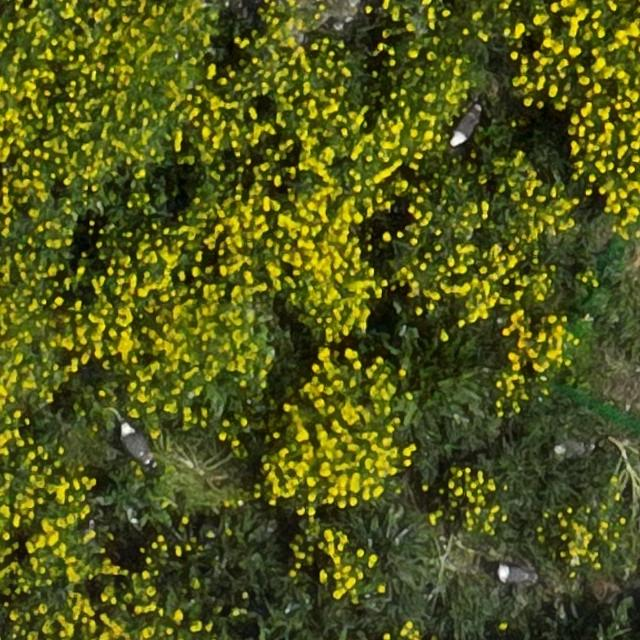umineko: (121, 426, 149, 462), (454, 108, 479, 146), (497, 566, 532, 585)
